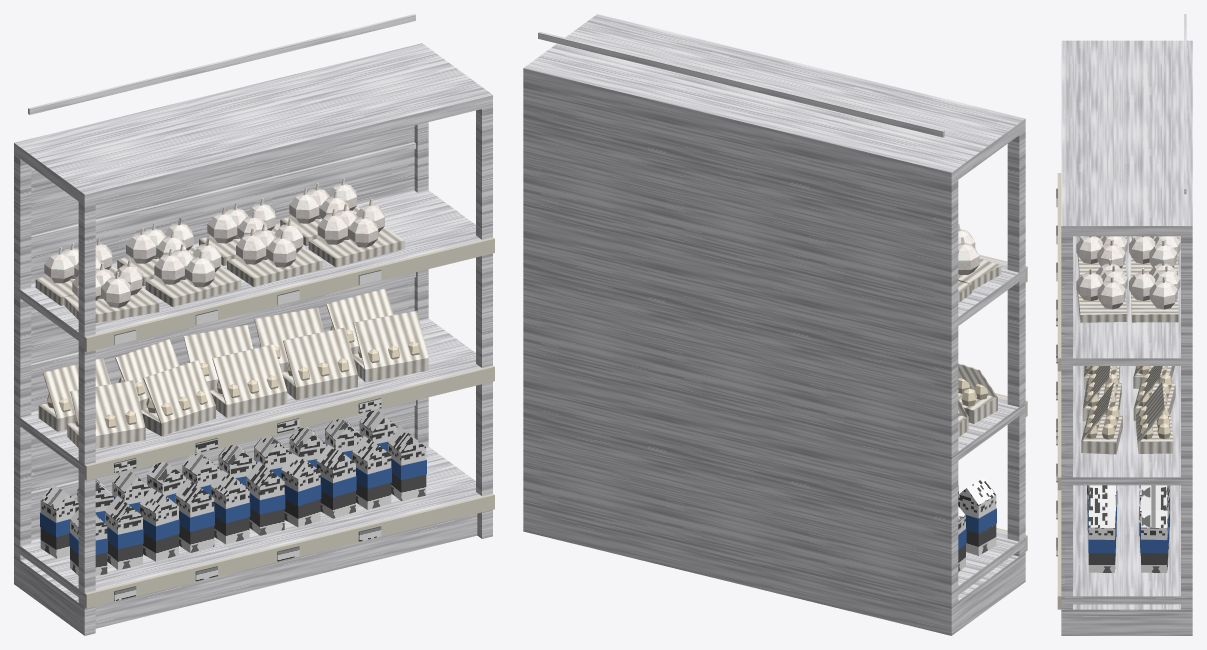
3 views of the same model, side by side, from view 1: azimuth 30°, elevation 25°; view 2: azimuth 150°, elevation 25°; view 3: azimuth 270°, elevation 25° (orthographic). The views are drawn at different scales.
Visible parts, largest first — view 1: metallo_003, metallo_001, metallo_000, liscio_005, metallo_004, metallo_002, cartone_077, cartone_071, cartone_065, cartone_059, cartone_053, cartone_062 (+47 smaller); view 2: metallo_001, metallo_003, metallo_000, metallo_002, metallo_004, stampa_a_011, cartone_083; view 3: metallo_003, metallo_000, metallo_004, metallo_001, liscio_005, stampa_a_045, stampa_a_047, pelle_104, pelle_108, cartone_103, cartone_107, cartone_076 (+27 smaller).
Boxes of the visible parts, box(x1,y1,x2,y2) form: metallo_003: box(14, 44, 492, 601); metallo_001: box(14, 43, 420, 585); metallo_000: box(14, 43, 492, 635); liscio_005: box(84, 237, 494, 608); metallo_004: box(17, 513, 477, 631); metallo_002: box(28, 14, 415, 498); cartone_077: box(353, 310, 428, 369); cartone_071: box(283, 327, 357, 387); cartone_065: box(212, 344, 286, 404); cartone_059: box(143, 360, 215, 423); cartone_053: box(70, 380, 145, 435); cartone_062: box(183, 325, 253, 381); metallo_001: box(523, 68, 954, 635); metallo_003: box(523, 14, 1024, 599); metallo_000: box(523, 14, 1025, 635); metallo_002: box(538, 31, 944, 137); metallo_004: box(955, 555, 1019, 630); stampa_a_011: box(958, 478, 996, 555); cartone_083: box(958, 258, 1001, 290); metallo_003: box(1061, 40, 1192, 604); metallo_000: box(1061, 40, 1192, 635); metallo_004: box(1070, 604, 1186, 635); metallo_001: box(1186, 41, 1192, 635); liscio_005: box(1057, 173, 1062, 609); stampa_a_045: box(1141, 510, 1168, 572); stampa_a_047: box(1088, 510, 1115, 572); pelle_104: box(1149, 263, 1180, 309); pelle_108: box(1095, 263, 1127, 309); cartone_103: box(1131, 292, 1178, 322); cartone_107: box(1077, 292, 1127, 322); cartone_076: box(1081, 414, 1122, 454).
Size of the model in its own units: 1.5 by 1.67 by 0.467.
17 materials, 14 textured.
